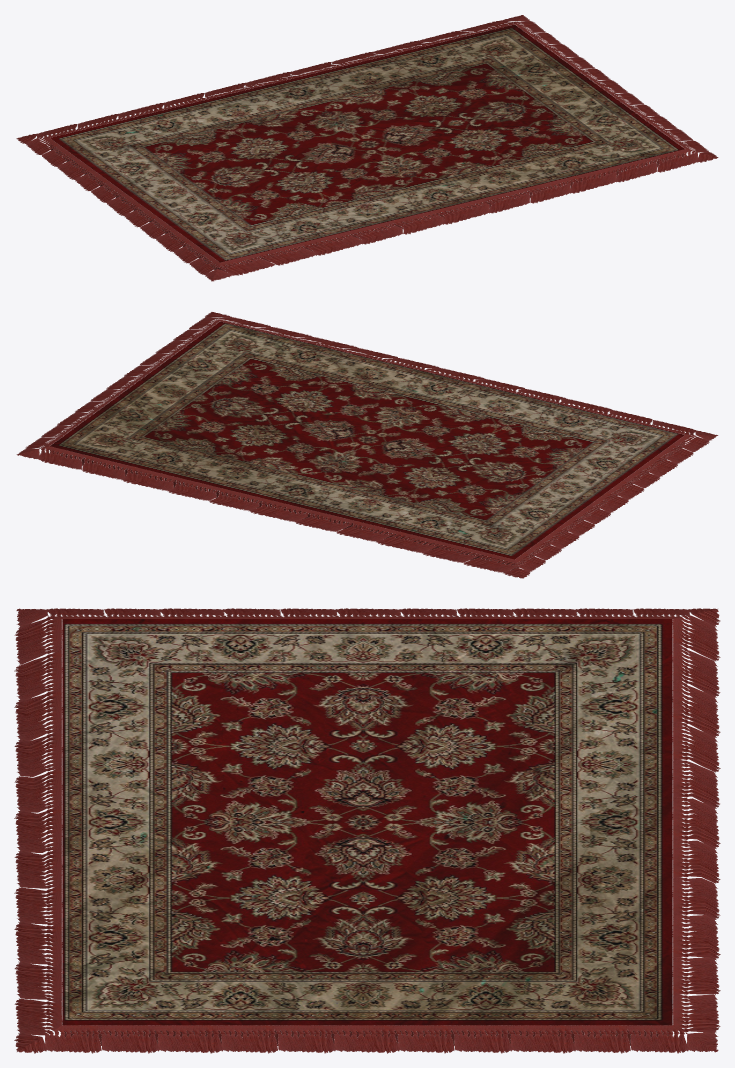
File: Carpet.FBX
3 renders of one model, top to bottom at view 1: azimuth 30°, elevation 25°; view 2: azimuth 150°, elevation 25°; view 3: azimuth 270°, elevation 25°, orthographic. The views are drawn at different scales.
Visible parts, largest first — view 1: Object06; view 2: Object06; view 3: Object06.
Boxes of the visible parts, box(x1,y1,x2,y2) form: Object06: box(16, 15, 718, 281); Object06: box(16, 312, 718, 578); Object06: box(14, 608, 720, 1053).
Bounding box in the file's own units: 52.62 × 1.14 × 35.29.
Materials: 1 (1 with a texture image).
